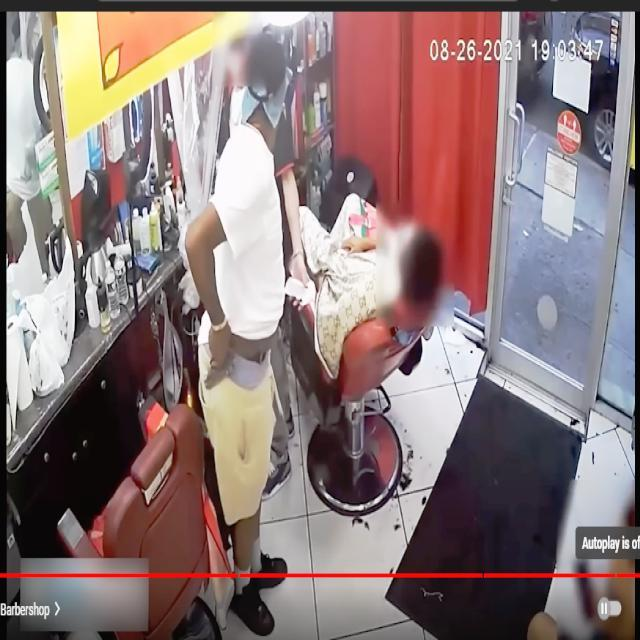Gun: (191, 333, 236, 397)
